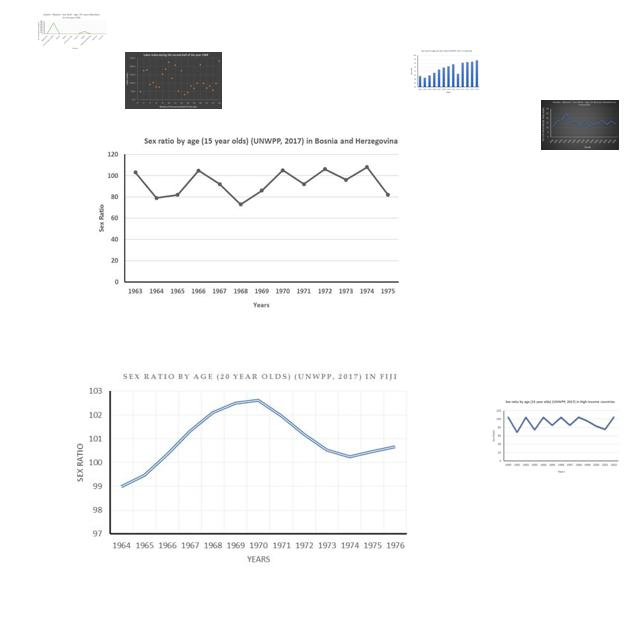Graph: (66, 365, 412, 572), (91, 127, 406, 315), (488, 398, 624, 475), (125, 52, 222, 109), (541, 100, 619, 150), (409, 49, 481, 94), (37, 12, 107, 51)
